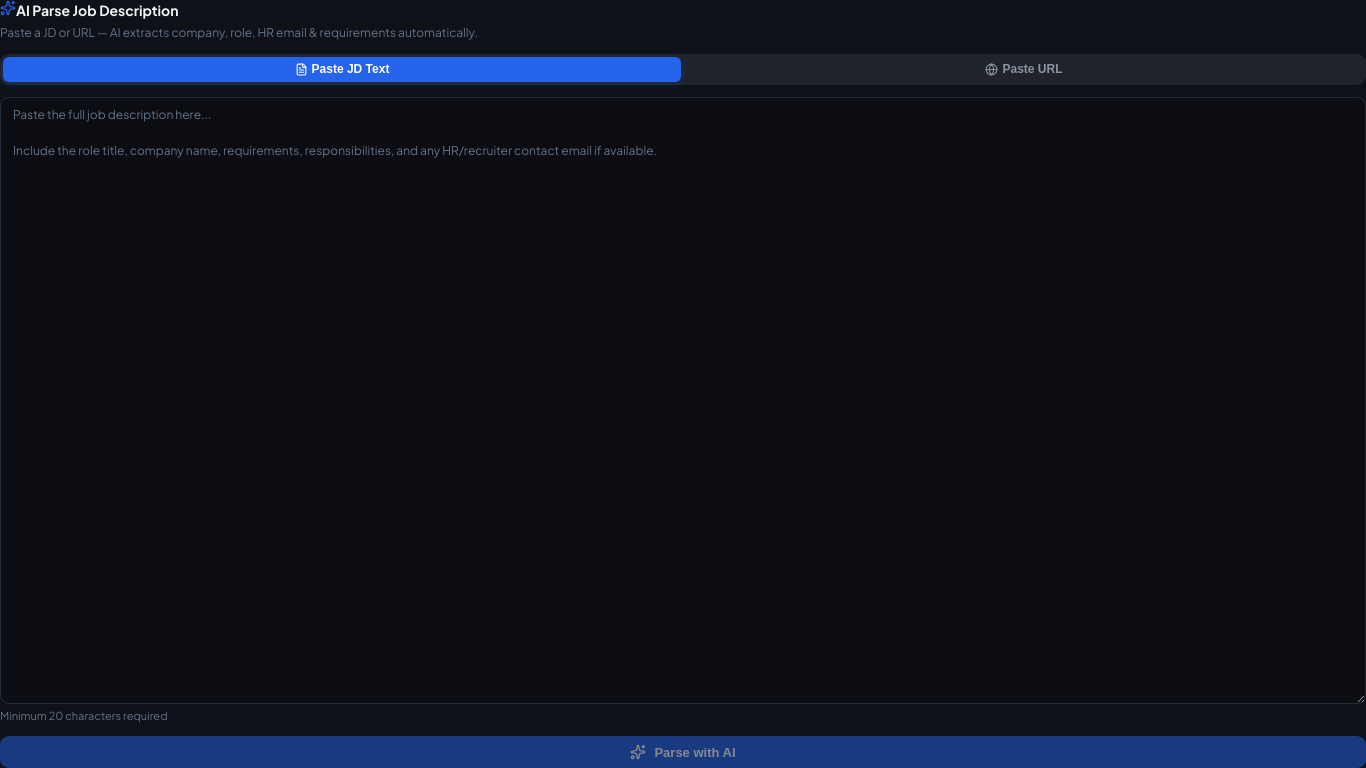
Test case: AiJdParserPanel Component › switches to URL input mode and enforces URL length validation
Click the button "Paste URL": (1024, 69) [685,57,1363,82]
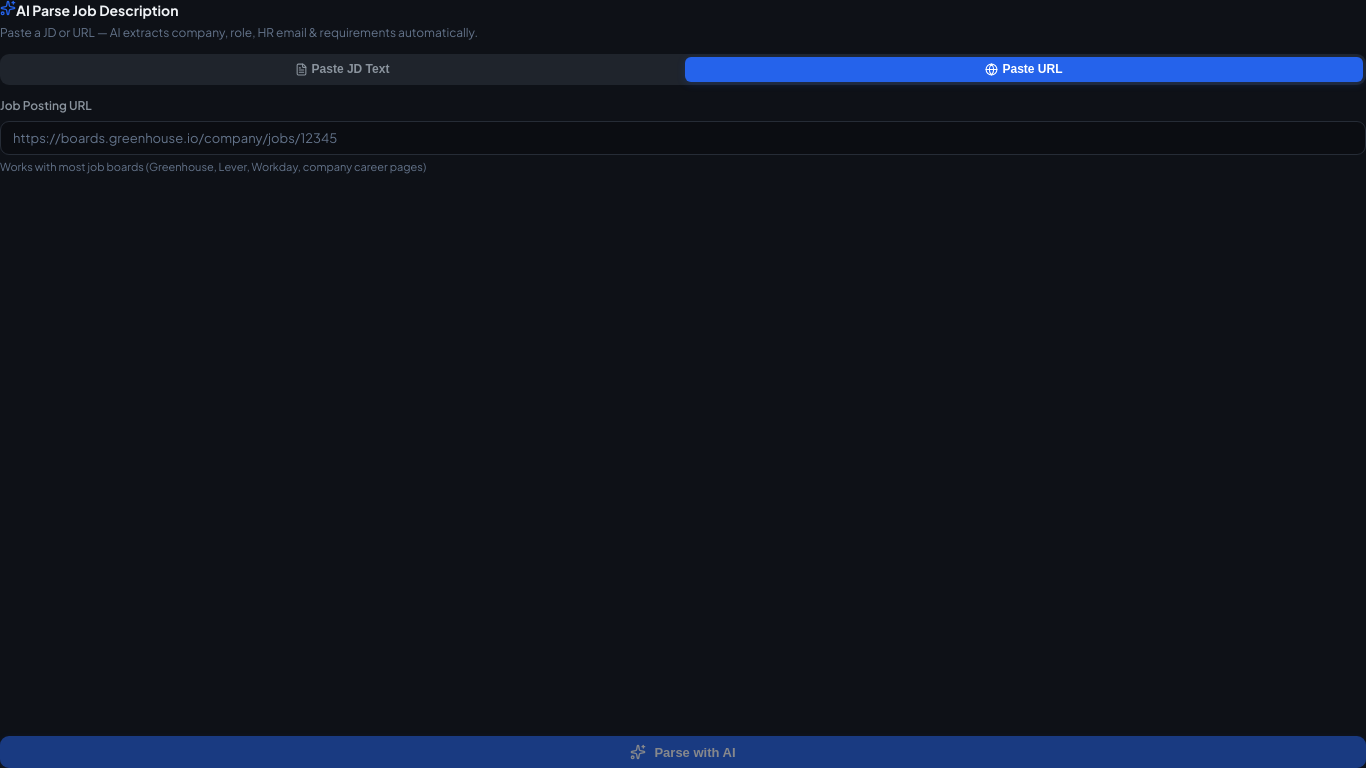
expect the button "Parse with AI" is disabled: met, box [0,736,1365,767]
expect the field with placeholder "https://boards.greenhouse.io/company/jobs/12345" is shown: met
In the field with placeholder "https://boards.greenhouse.io/company/jobs/12345": (683, 138) [0,121,1365,155], type "https://jobs.lever.co/stripe/12345"
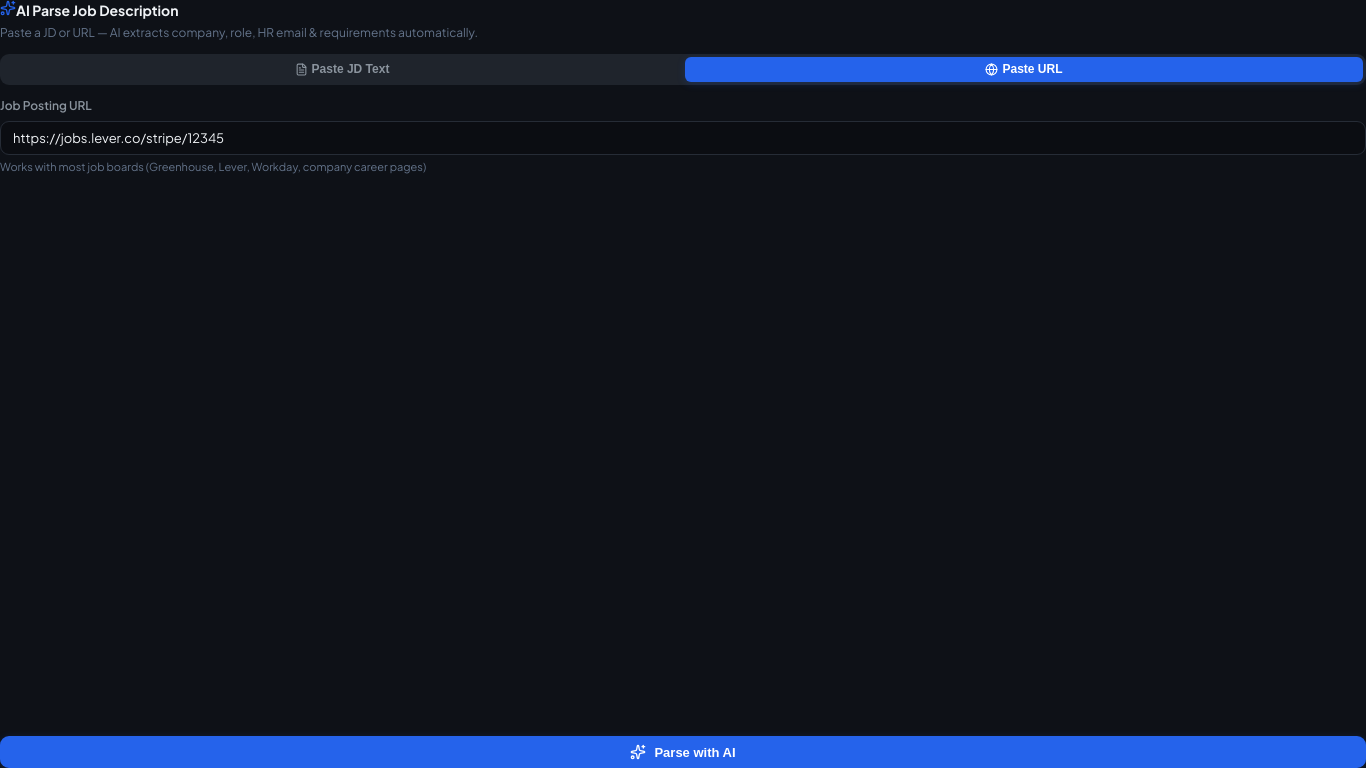
expect the button "Parse with AI" is enabled: met, box [0,736,1365,767]
